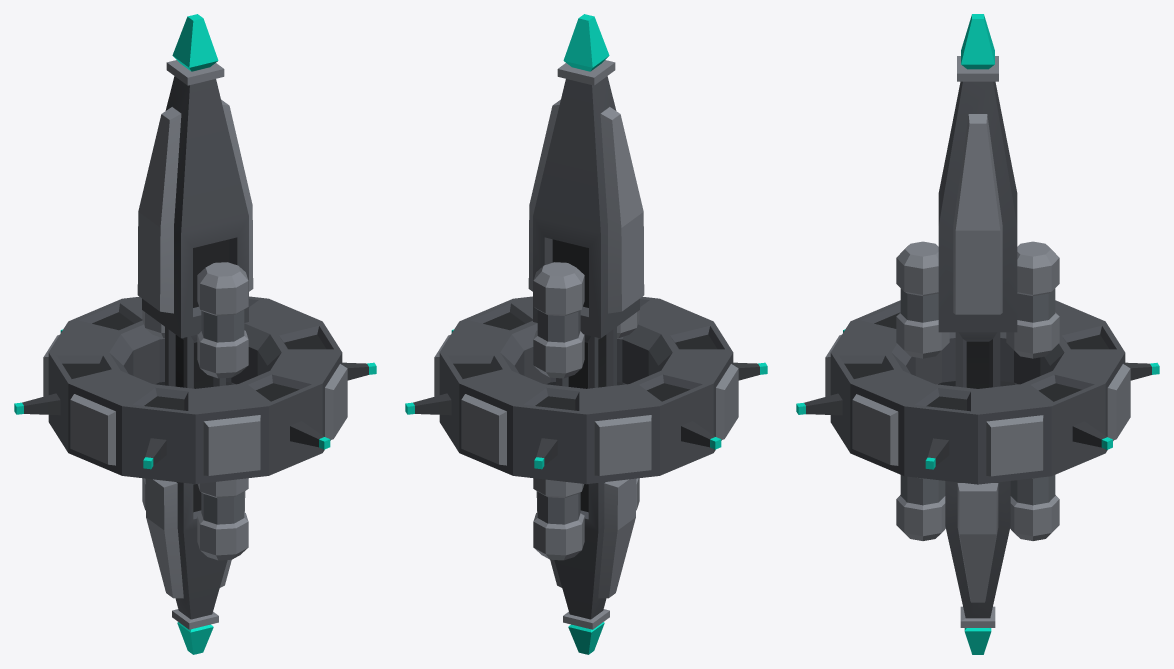
File: SM_Veh_Beacon_01.glb
3 renders of one model, left to right at view 1: azimuth 30°, elevation 25°; view 2: azimuth 150°, elevation 25°; view 3: azimuth 270°, elevation 25°, orthographic.
Parts seen in each view (by area): view 1: SM_Veh_Beacon_01; view 2: SM_Veh_Beacon_01; view 3: SM_Veh_Beacon_01.
Part boxes in pixels (bbox=[...]): SM_Veh_Beacon_01: bbox=[14, 14, 376, 654]; SM_Veh_Beacon_01: bbox=[405, 14, 767, 654]; SM_Veh_Beacon_01: bbox=[796, 14, 1159, 654].
Bounding box in the file's own units: 9.19 × 17.76 × 9.19.
Materials: 1 (1 with a texture image).
